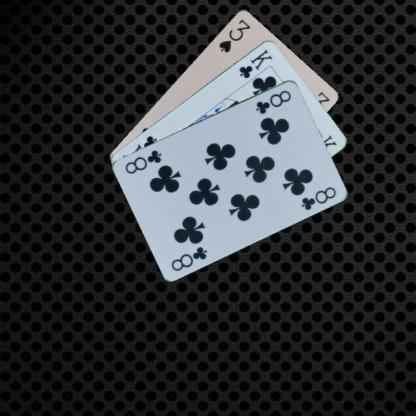3s: (216, 16, 252, 54)
8c: (168, 243, 209, 272), (253, 87, 292, 115)
Kc: (236, 46, 274, 80)
